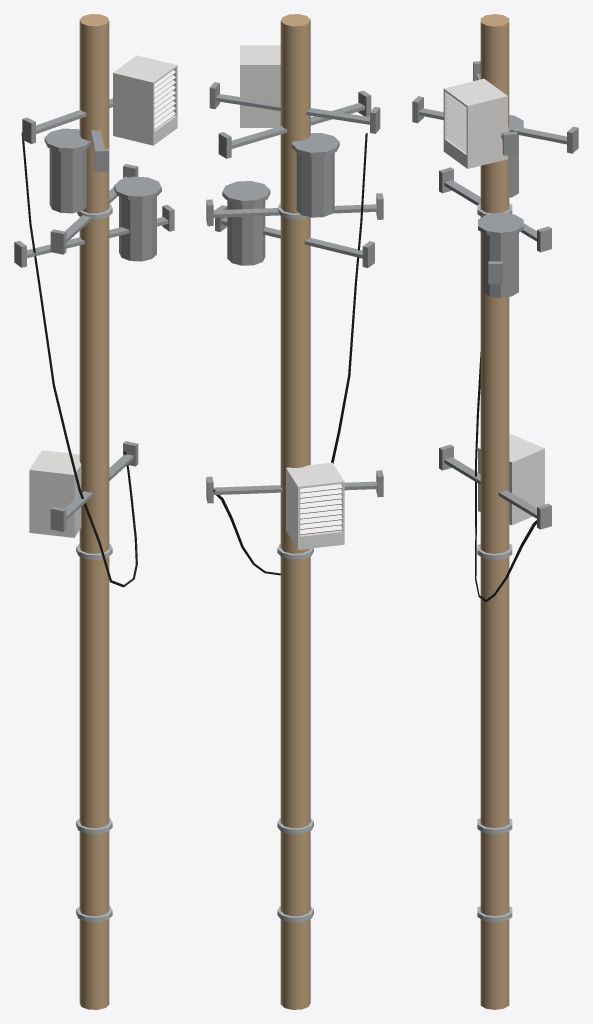
Rendered from SM_powerpole_japan.fbx.
3 views of the same model, side by side, from view 1: azimuth 30°, elevation 25°; view 2: azimuth 150°, elevation 25°; view 3: azimuth 270°, elevation 25° (orthographic).
Parts seen in each view (by area): view 1: Cylinder013; view 2: Cylinder013; view 3: Cylinder013.
Part boxes in pixels (bbox=[...]): Cylinder013: bbox=[14, 14, 177, 1009]; Cylinder013: bbox=[206, 14, 383, 1009]; Cylinder013: bbox=[412, 14, 578, 1009].
Bounding box in the file's own units: 58.53 × 55.04 × 359.
